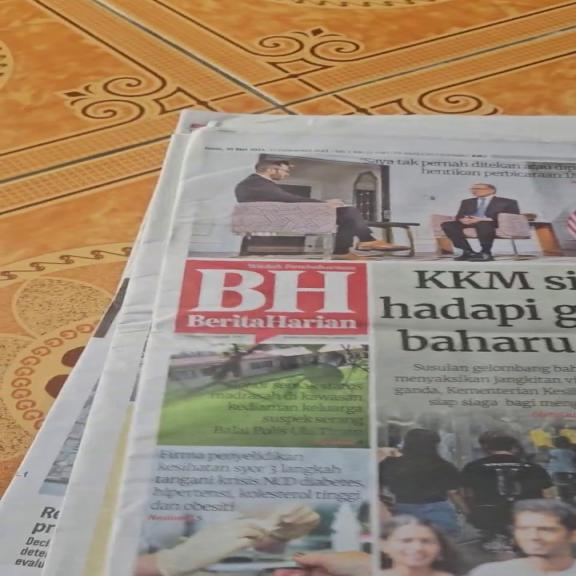Kertas: (177, 121, 576, 576)
